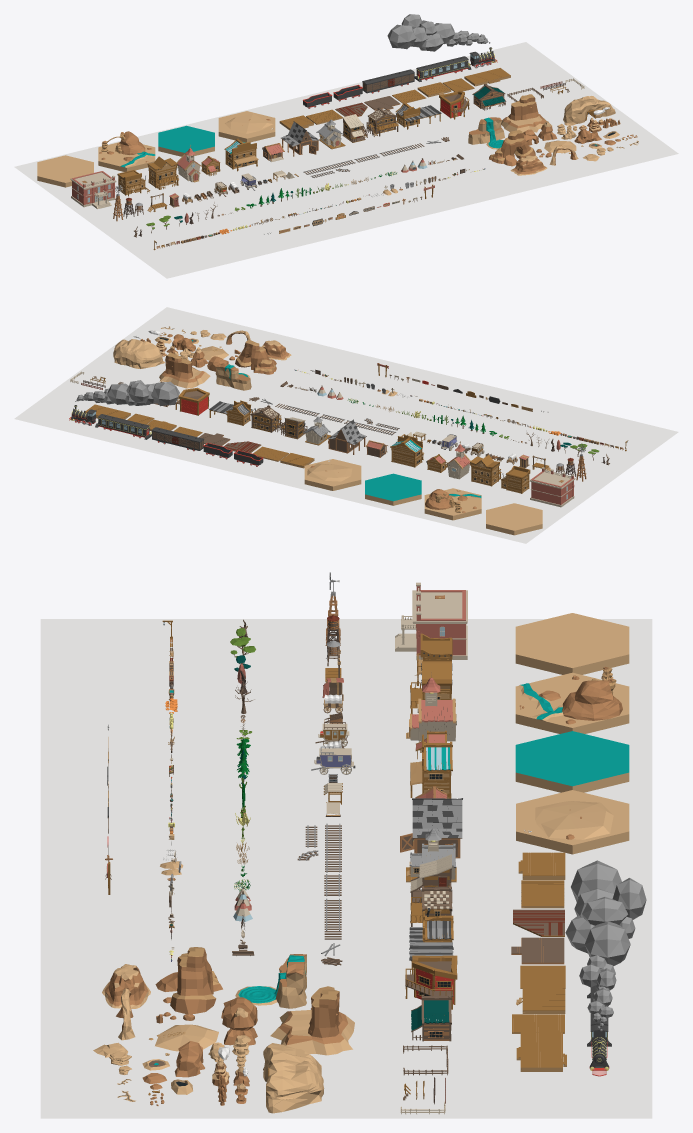
The model's file is Demo_Exteriors.fbx.
3 views of the same model, one above another, from view 1: azimuth 30°, elevation 25°; view 2: azimuth 150°, elevation 25°; view 3: azimuth 270°, elevation 25° (orthographic). The views are drawn at different scales.
Visible parts, largest first — view 1: pPlane1, Smoke, Base_2, Base_4, Base_3, Building_Hotel, Base_1, Mountain_1, Mine, Mountain_2, Building_Sheriff, Building_Bank (+14 smaller); view 2: pPlane1, Smoke, Base_2, Base_4, Base_3, Base_1, Building_Hotel, Mine, Mountain_1, Mountain_2, Building_Bank, Building_Farm (+12 smaller); view 3: pPlane1, Smoke, Base_2, Base_4, Base_1, Base_3, Building_Hotel, Mountain_1, Mine, Mountain_2, Building_Farm, Building_Gold_Stash_Building (+23 smaller).
Part boxes in pixels (x1,y1,x2,y2): pPlane1: [14, 42, 678, 278]; Smoke: [387, 14, 490, 51]; Base_2: [98, 131, 155, 171]; Base_4: [218, 111, 275, 142]; Base_3: [158, 125, 214, 156]; Building_Hotel: [70, 171, 116, 209]; Base_1: [37, 155, 93, 187]; Mountain_1: [501, 94, 552, 132]; Mine: [563, 96, 615, 125]; Mountain_2: [489, 130, 535, 166]; Building_Sheriff: [147, 156, 178, 189]; Building_Bank: [224, 138, 258, 171]; pPlane1: [14, 307, 678, 543]; Smoke: [75, 380, 179, 406]; Base_2: [424, 488, 481, 520]; Base_4: [304, 459, 361, 490]; Base_3: [365, 473, 421, 505]; Base_1: [486, 503, 542, 535]; Building_Hotel: [530, 467, 575, 507]; Mine: [113, 339, 164, 368]; Mountain_1: [159, 352, 210, 388]; Mountain_2: [235, 340, 276, 374]; Building_Bank: [390, 435, 424, 467]; Building_Farm: [328, 419, 366, 454]; pPlane1: [40, 619, 652, 1118]; Smoke: [565, 860, 646, 1031]; Base_2: [515, 666, 629, 733]; Base_4: [516, 790, 629, 854]; Base_1: [515, 613, 629, 674]; Base_3: [515, 731, 629, 792]; Building_Hotel: [395, 582, 467, 660]; Mountain_1: [270, 986, 354, 1055]; Mine: [263, 1043, 324, 1113]; Mountain_2: [155, 947, 222, 1014]; Building_Farm: [400, 798, 462, 858]; Building_Gold_Stash_Building: [405, 955, 457, 1009].
Bounding box in the file's own units: 20932 × 10823 × 2436.
